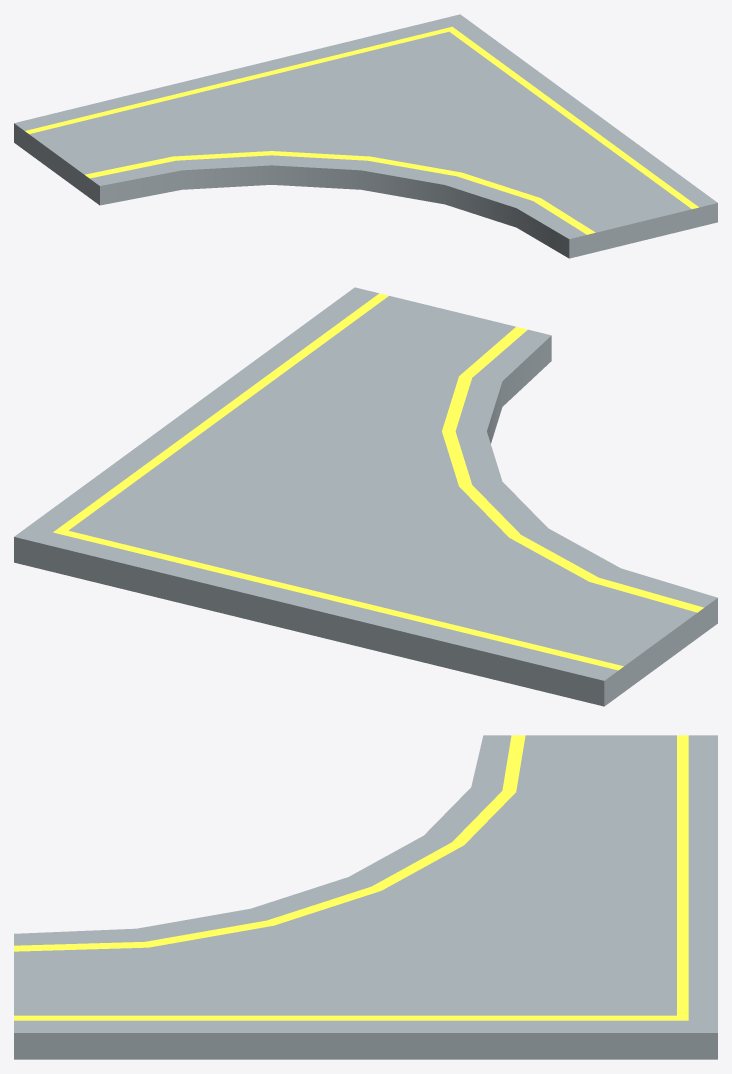
File: SM_PlatformLShape_v0.fbx
The picture shows the model from 3 angles, top to bottom: view 1: azimuth 30°, elevation 25°; view 2: azimuth 150°, elevation 25°; view 3: azimuth 270°, elevation 25°; orthographic projection. The views are drawn at different scales.
Visible parts, largest first — view 1: SM_PlatformLShape_v0; view 2: SM_PlatformLShape_v0; view 3: SM_PlatformLShape_v0.
Part boxes in pixels (box(x1,y1,x2,y2)): SM_PlatformLShape_v0: box(14, 14, 717, 258); SM_PlatformLShape_v0: box(14, 287, 717, 706); SM_PlatformLShape_v0: box(14, 735, 717, 1059).
Bounding box in the file's own units: 3 × 0.125 × 3.
